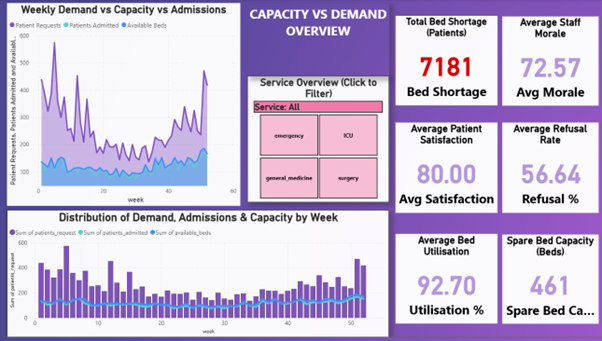

Layout of this report page (visuals, bound fields, positions):
{"tool":"powerbi","page":{"name":"Capacity vs Demand Overview","canvas":[1280,720],"ordinal":0},"visuals":[{"type":"lineChart","title":"Weekly Demand vs Capacity vs Admissions","fields":{"Category":["ServiceCapacityStaff.week"],"Y":["Sum(ServiceCapacityStaff.patients_request)","Sum(ServiceCapacityStaff.patients_admitted)","Sum(ServiceCapacityStaff.available_beds)"]},"box":[10,7.5,497.6,432.9],"z":0},{"type":"slicer","title":"Service Overview (Click to Filter)","fields":{"Values":["ServiceCapacityStaff.service"]},"box":[522.5,163,302.3,269.9],"z":1000},{"type":"lineClusteredColumnComboChart","title":"Distribution of Demand, Admissions & Capacity by Week","fields":{"Category":["ServiceCapacityStaff.week"],"Y":["Sum(ServiceCapacityStaff.patients_request)"],"Y2":["Sum(ServiceCapacityStaff.patients_admitted)","Sum(ServiceCapacityStaff.available_beds)"]},"box":[10,449.1,814.8,271.2],"z":2000},{"type":"card","title":"Total Bed Shortage (Patients)","fields":{"Values":["ServiceCapacityStaff.Bed Shortage"]},"box":[838.4,35,217.7,191.6],"z":3000},{"type":"card","title":"Average Bed Utilisation","fields":{"Values":["ServiceCapacityStaff.Utilisation %"]},"box":[838.4,500.3,217.7,191.6],"z":4000},{"type":"card","title":"Average Refusal Rate","fields":{"Values":["ServiceCapacityStaff.Refusal %"]},"box":[1066.1,262.2,205.3,192.8],"z":5000},{"type":"card","title":"Spare Bed Capacity (Beds)","fields":{"Values":["ServiceCapacityStaff.Spare Capacity"]},"box":[1066.1,501.6,205.3,190.3],"z":6000},{"type":"card","title":"Average Patient Satisfaction","fields":{"Values":["ServiceCapacityStaff.Avg Satisfaction"]},"box":[838.4,262.2,217.7,192.8],"z":7000},{"type":"card","title":"Average Staff Morale","fields":{"Values":["ServiceCapacityStaff.Avg Morale"]},"box":[1066.1,36.3,205.3,190.3],"z":8000},{"type":"textbox","box":[522,7,302,156],"z":9000}]}

Visuals, with their boxes in screenshot pixels (x1, y1, x2, y2), scaled from the page's 1280x720 canvas onto the 602x341 screenshot:
"Weekly Demand vs Capacity vs Admissions" lineChart: 5/4/239/209
"Service Overview (Click to Filter)" slicer: 246/77/388/205
"Distribution of Demand, Admissions & Capacity by Week" lineClusteredColumnComboChart: 5/213/388/340
"Total Bed Shortage (Patients)" card: 394/17/497/107
"Average Bed Utilisation" card: 394/237/497/328
"Average Refusal Rate" card: 501/124/598/215
"Spare Bed Capacity (Beds)" card: 501/238/598/328
"Average Patient Satisfaction" card: 394/124/497/215
"Average Staff Morale" card: 501/17/598/107
textbox: 246/3/388/77
